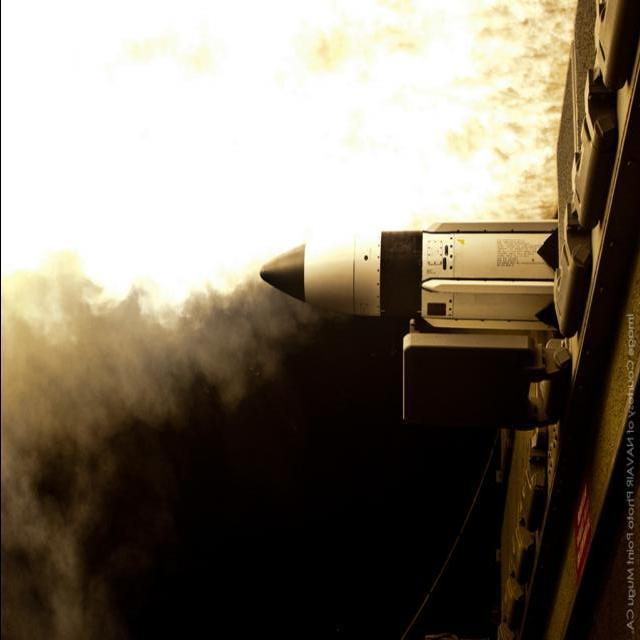missile: (253, 206, 588, 387)
